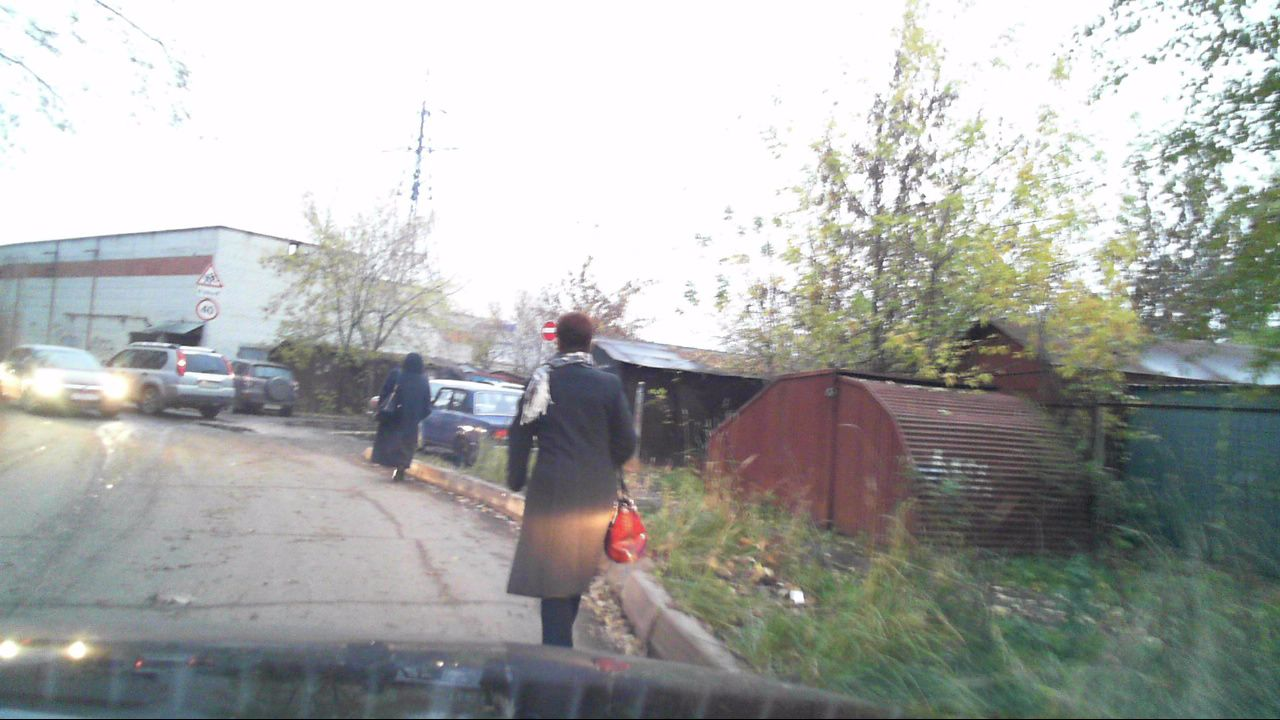speed_warning_40: (196, 298, 217, 320)
